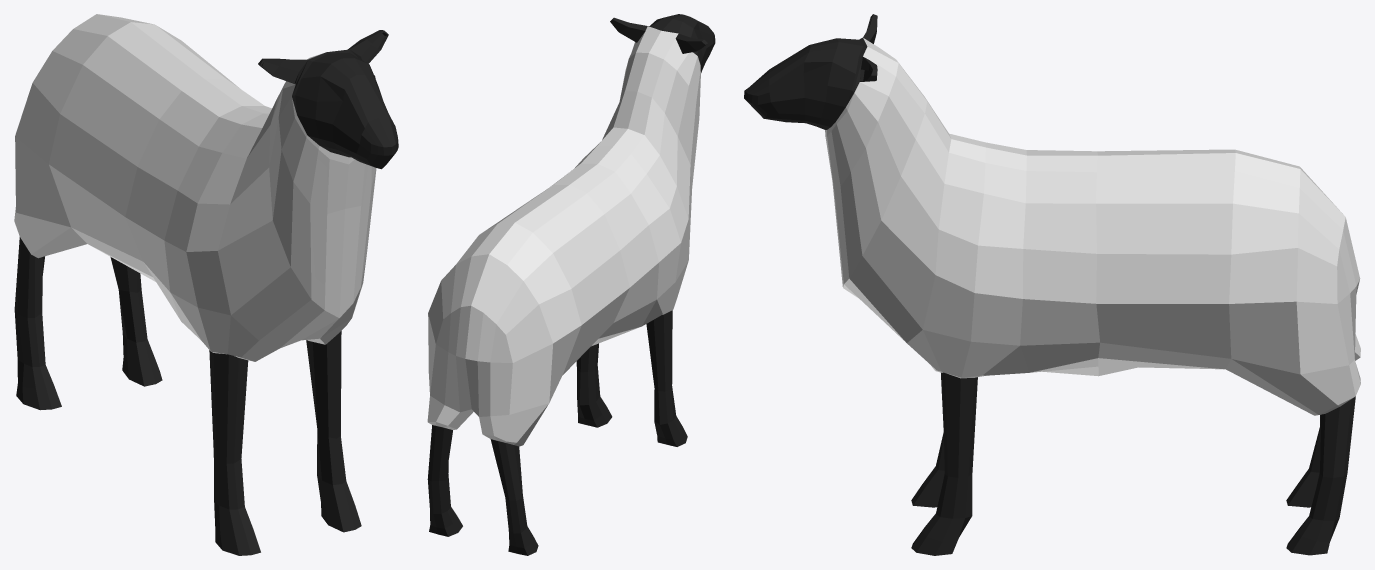
Rendered from sheep_free_model.glb.
The picture shows the model from 3 angles, left to right: view 1: azimuth 30°, elevation 25°; view 2: azimuth 150°, elevation 25°; view 3: azimuth 270°, elevation 25°; orthographic projection. The views are drawn at different scales.
Visible parts, largest first — view 1: 10sheepFinal; view 2: 10sheepFinal; view 3: 10sheepFinal.
Part boxes in pixels (x1,y1,x2,y2): 10sheepFinal: (14,14,398,555); 10sheepFinal: (427,14,715,555); 10sheepFinal: (744,14,1360,555).
Bounding box in the file's own units: 0.4308 × 1.23 × 1.43.
1 material, 1 textured.
